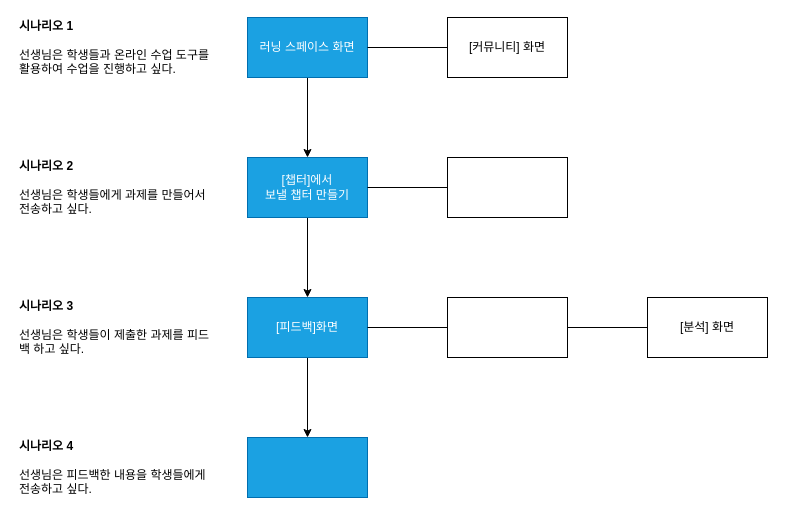
Some shapes in this 785 by 515 pixel diagram are drawn without their labels. The shapes that lost their labels are listed below. From the top down, each one's centre as x and y in pixels, then its label:
At point (507, 187): "[챕터]에서 챕터 찾기".
At point (507, 327): "피드버그 엔진".
At point (307, 467): "[피드백 전송]".
